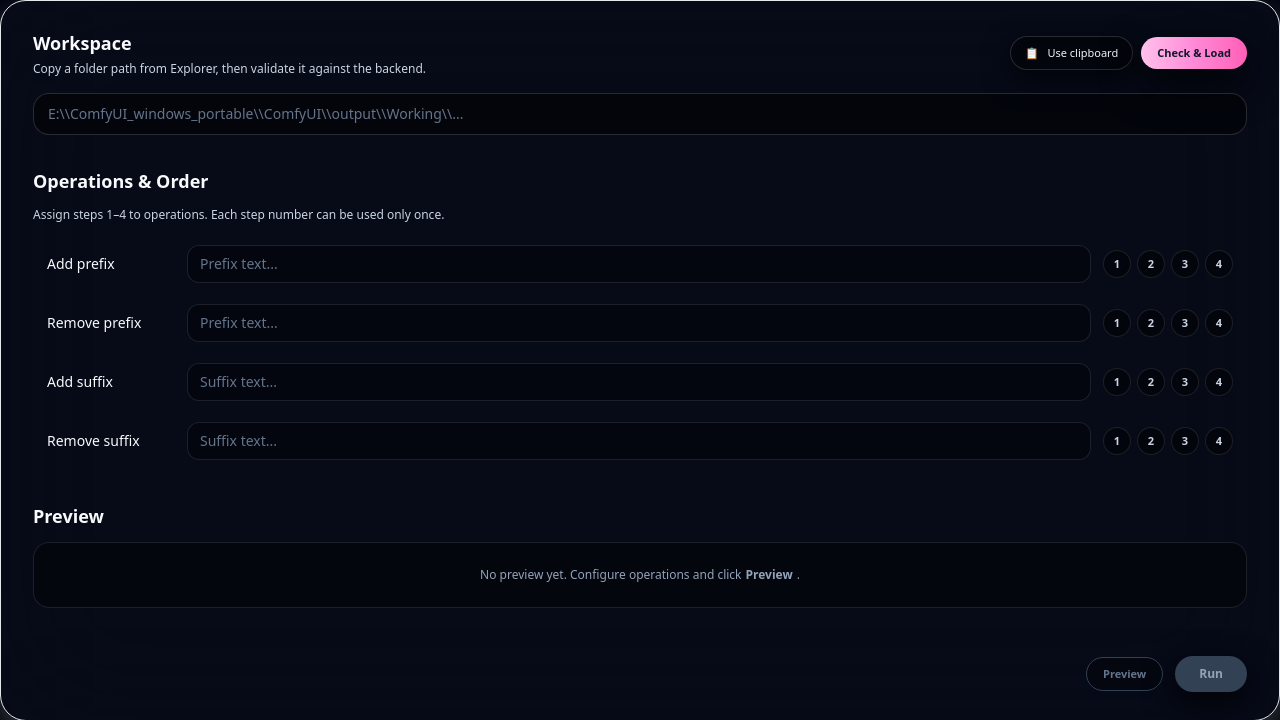
Test: OpsConsole workspace basics › shows an error when checking a folder without a path
The width and height of the screenshot is (1280, 720).
Click the button "Check & Load" at (1194, 53), box [1141,37,1247,69]
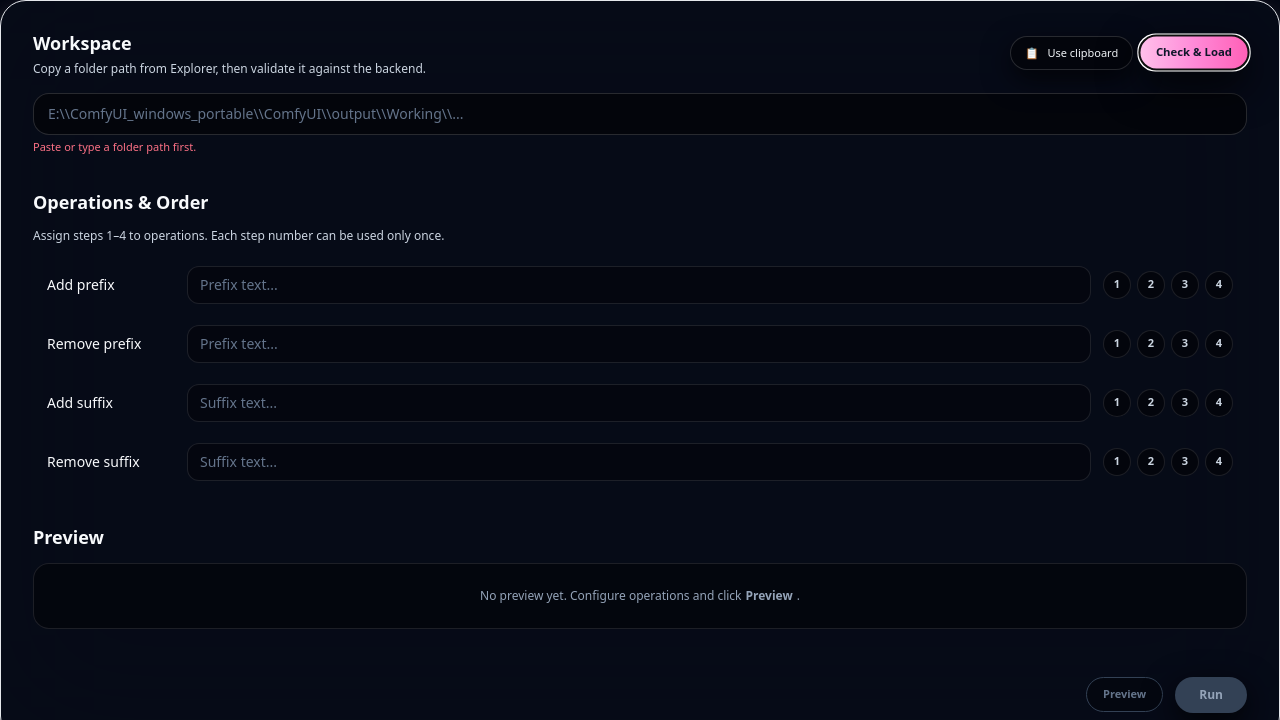
Expected: the text "Paste or type a folder path first." is shown, [33,139,196,154]
